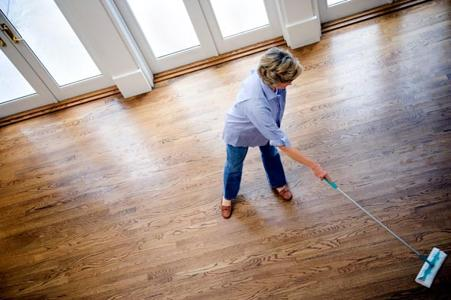person: (220, 47, 336, 224)
